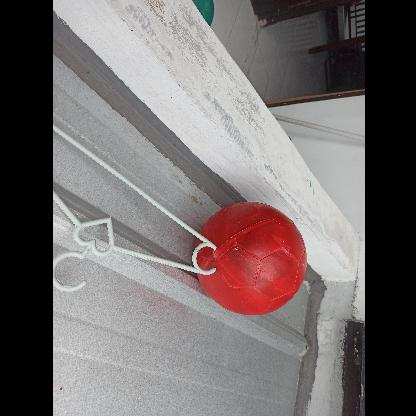red_ball: (195, 204, 306, 314)
